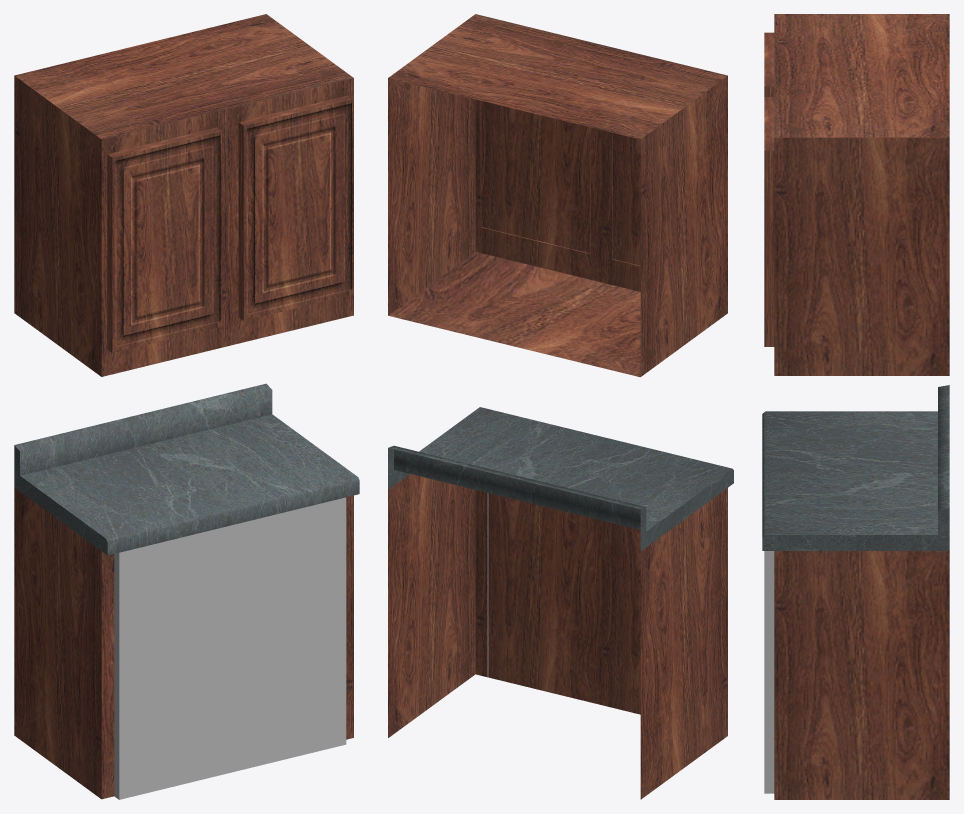
Rendered from counter_dishwasher.fbx.
3 views of the same model, side by side, from view 1: azimuth 30°, elevation 25°; view 2: azimuth 150°, elevation 25°; view 3: azimuth 270°, elevation 25° (orthographic).
Visible parts, largest first — view 1: mesh_1, mesh_0; view 2: mesh_1; view 3: mesh_1, mesh_0.
Part boxes in pixels (x1=…): mesh_1: x1=14, y1=14, x2=359, y2=799; mesh_0: x1=114, y1=497, x2=346, y2=799; mesh_1: x1=388, y1=14, x2=733, y2=799; mesh_1: x1=762, y1=14, x2=949, y2=799; mesh_0: x1=764, y1=551, x2=774, y2=793.
Bounding box in the file's own units: 100 × 250 × 64.06.
